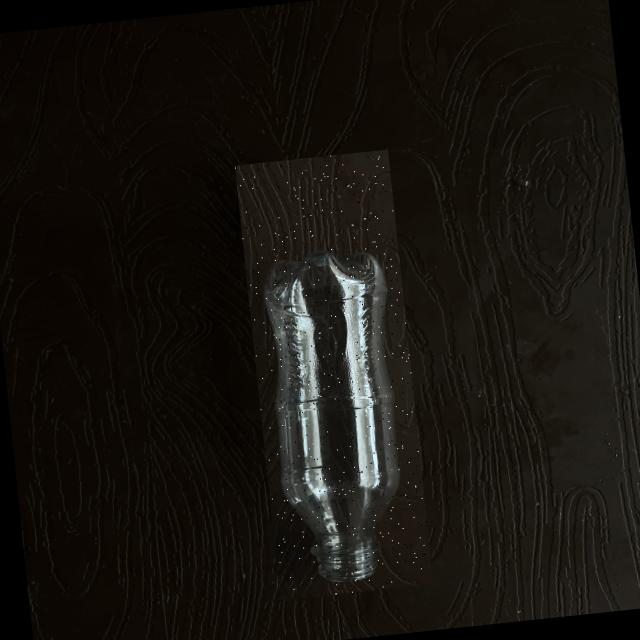PET_ClearBottle: (233, 148, 432, 599)
